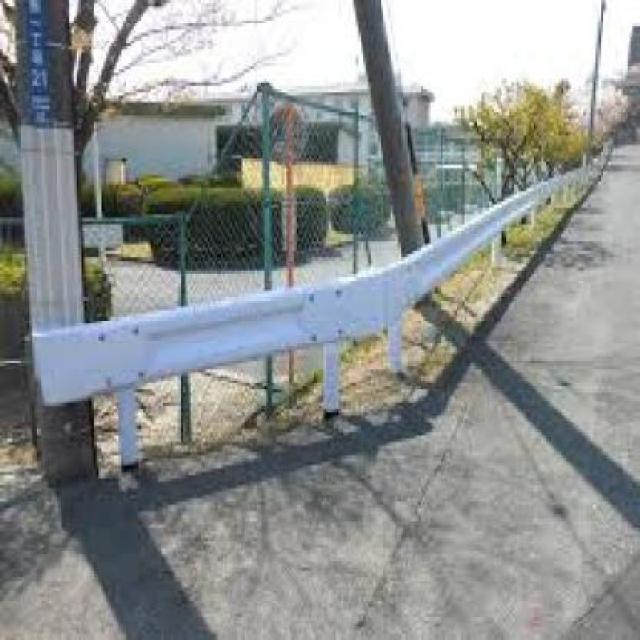Guard rail: (29, 156, 592, 495)
